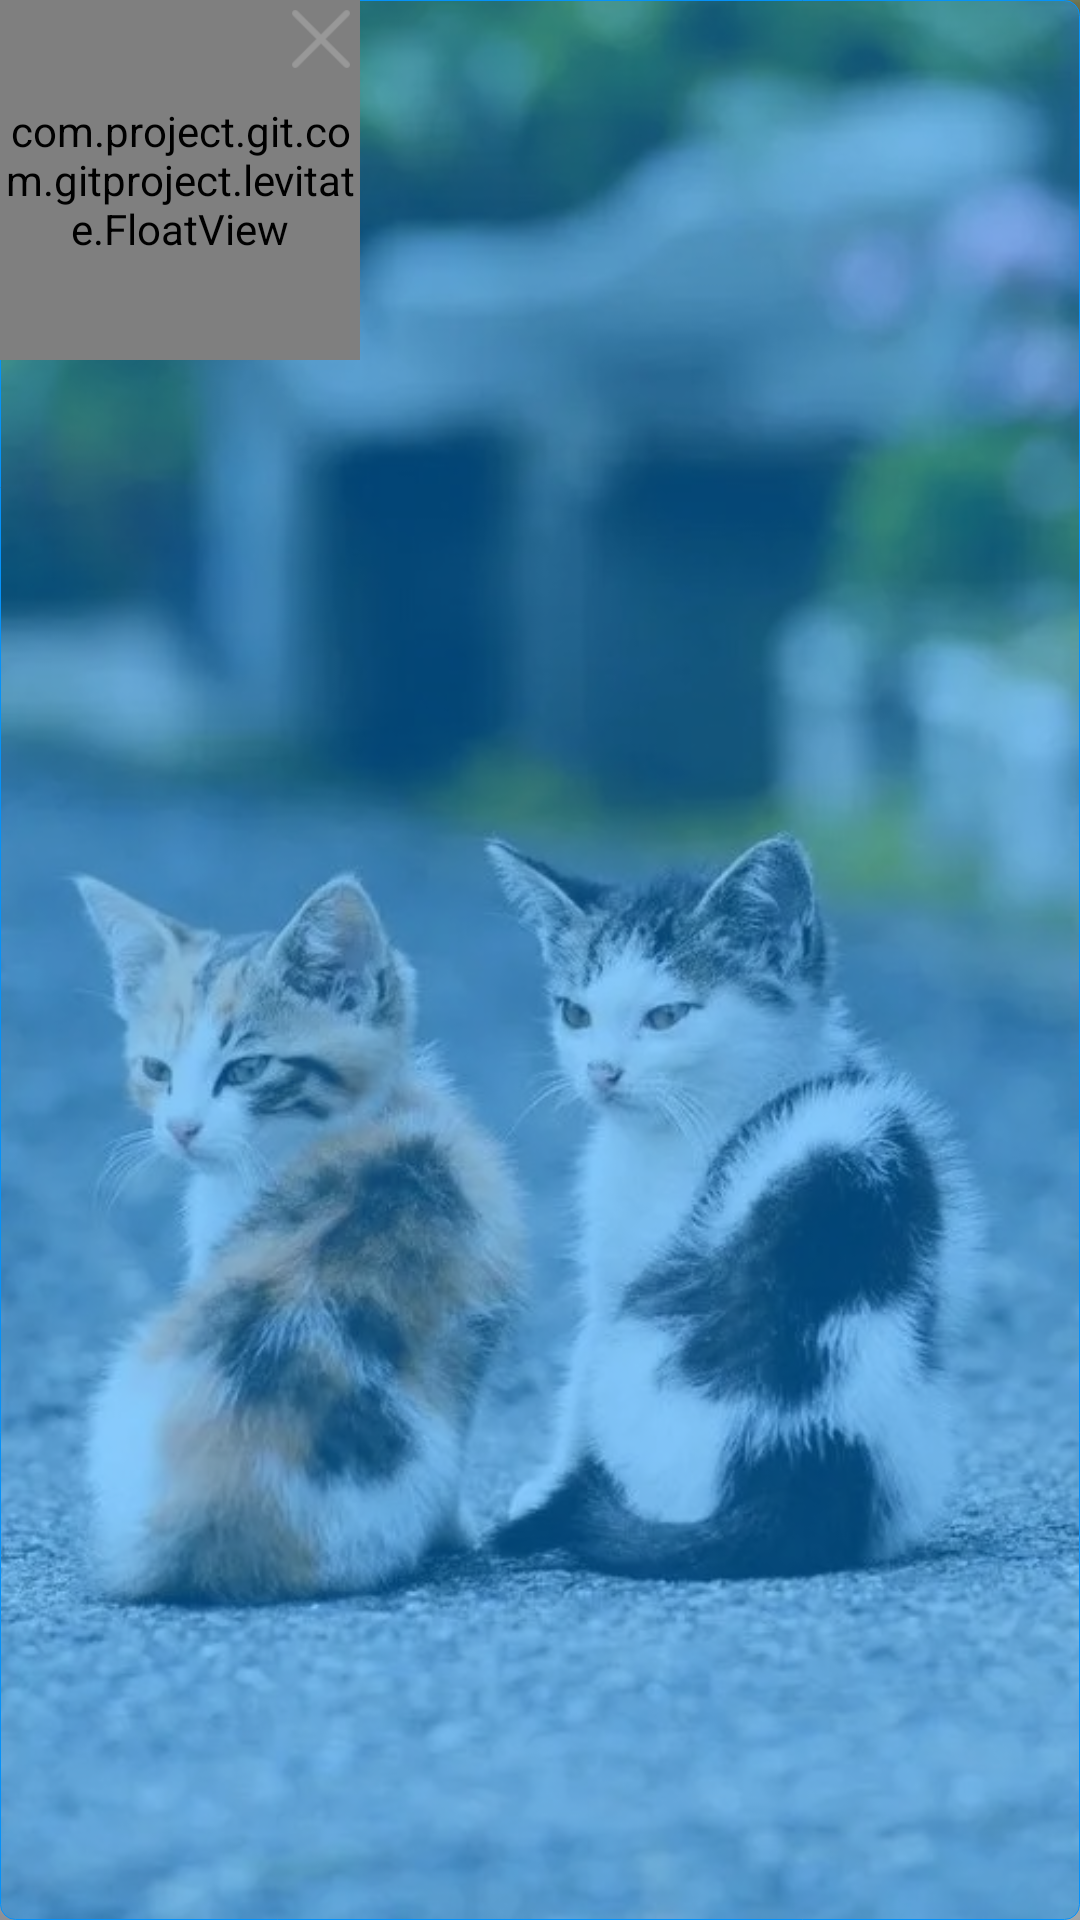

Screen size 1080*1920. Icon name, then its box in pixels as (x1, y1, x2, y2):
fav login close: (293, 11, 349, 67)
